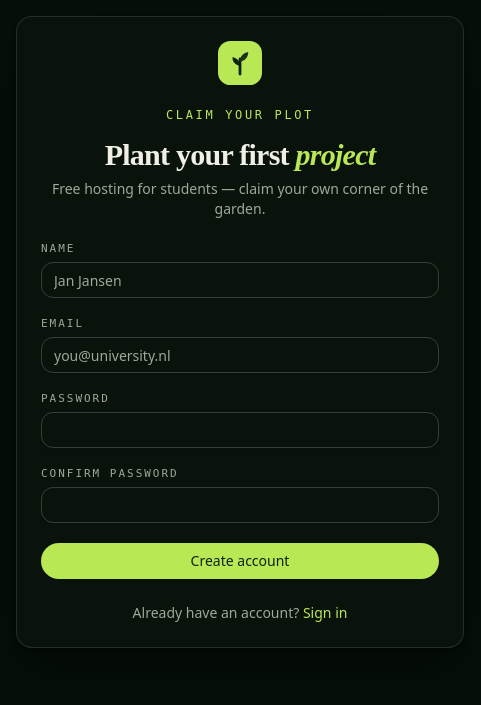
Test case: Register page › shows the API error when registration fails
In the field labelled "Name": (240, 280) [41,262,439,298], type "Alice"
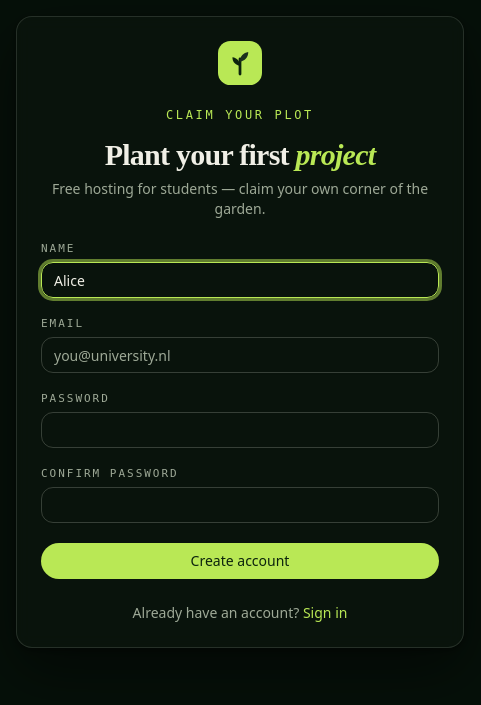
In the field labelled "Email": (240, 355) [41,337,439,373], type "a@b.com"
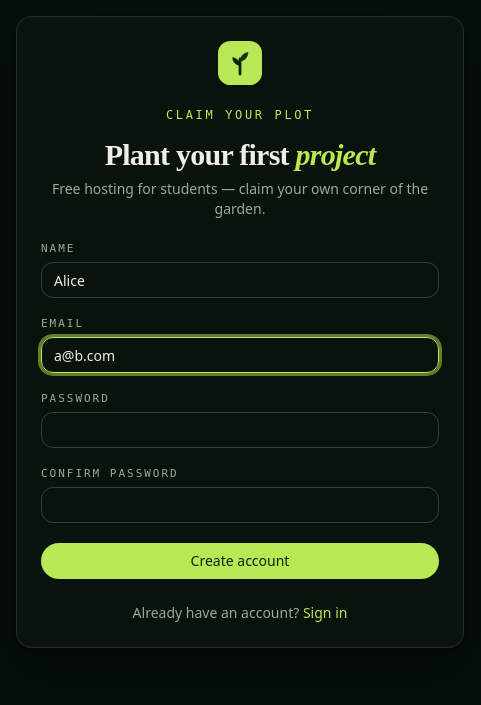
In the password field labelled "Password": (240, 430) [41,412,439,448], type "secret123"
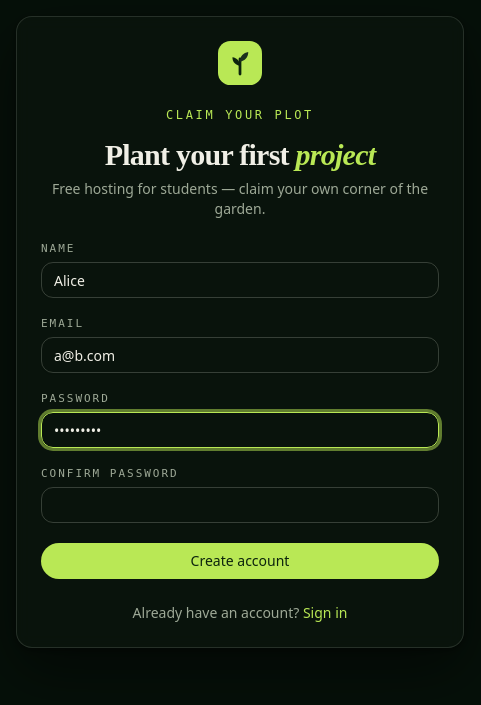
In the password field labelled "Confirm password": (240, 505) [41,487,439,523], type "secret123"
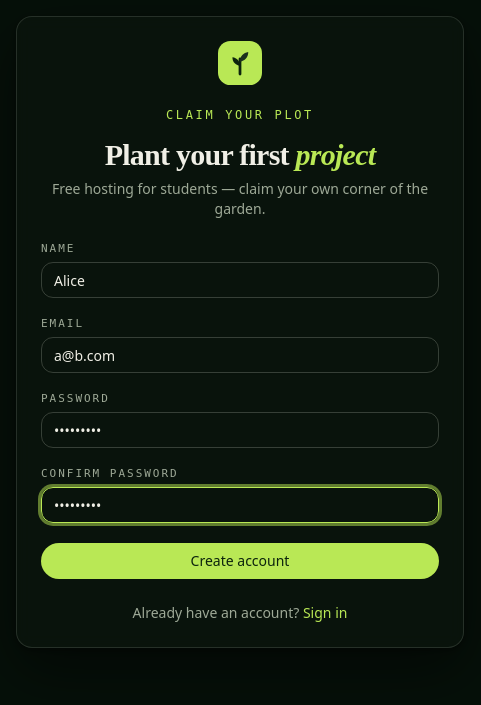
Click the button "Create account": click(240, 561) [41,543,439,579]
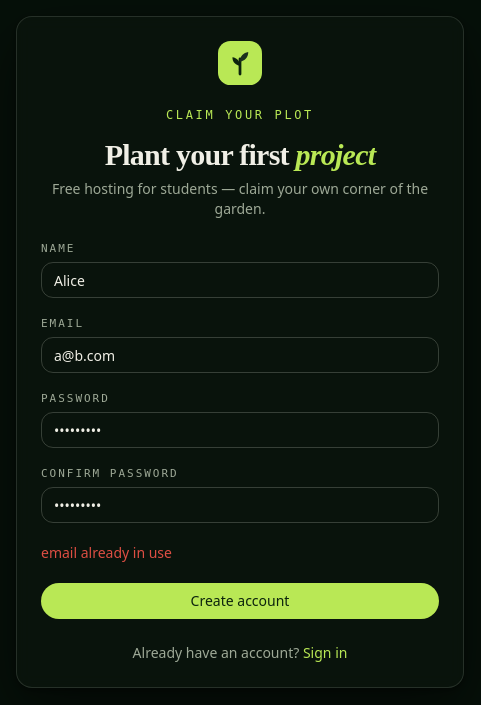
Result: the message reads "email already in use" at [41,543,172,562]
